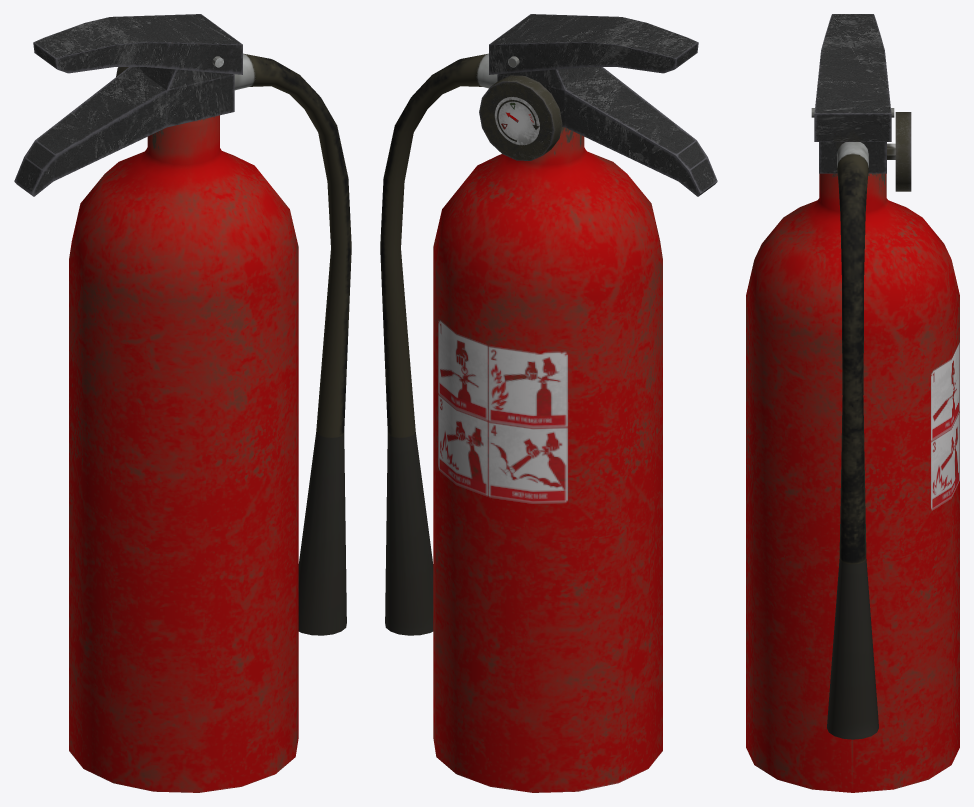
The model's file is extinguisher.fbx.
3 renders of one model, left to right at view 1: azimuth 30°, elevation 25°; view 2: azimuth 150°, elevation 25°; view 3: azimuth 270°, elevation 25°, orthographic. The views are drawn at different scales.
Visible parts, largest first — view 1: extinguisher.001; view 2: extinguisher.001; view 3: extinguisher.001.
Boxes of the visible parts, box(x1,y1,x2,y2) form: extinguisher.001: box(14, 14, 351, 792); extinguisher.001: box(380, 14, 717, 792); extinguisher.001: box(746, 14, 959, 792).
Size of the model in its own units: 787 by 1678 by 482.
1 material, 1 textured.
